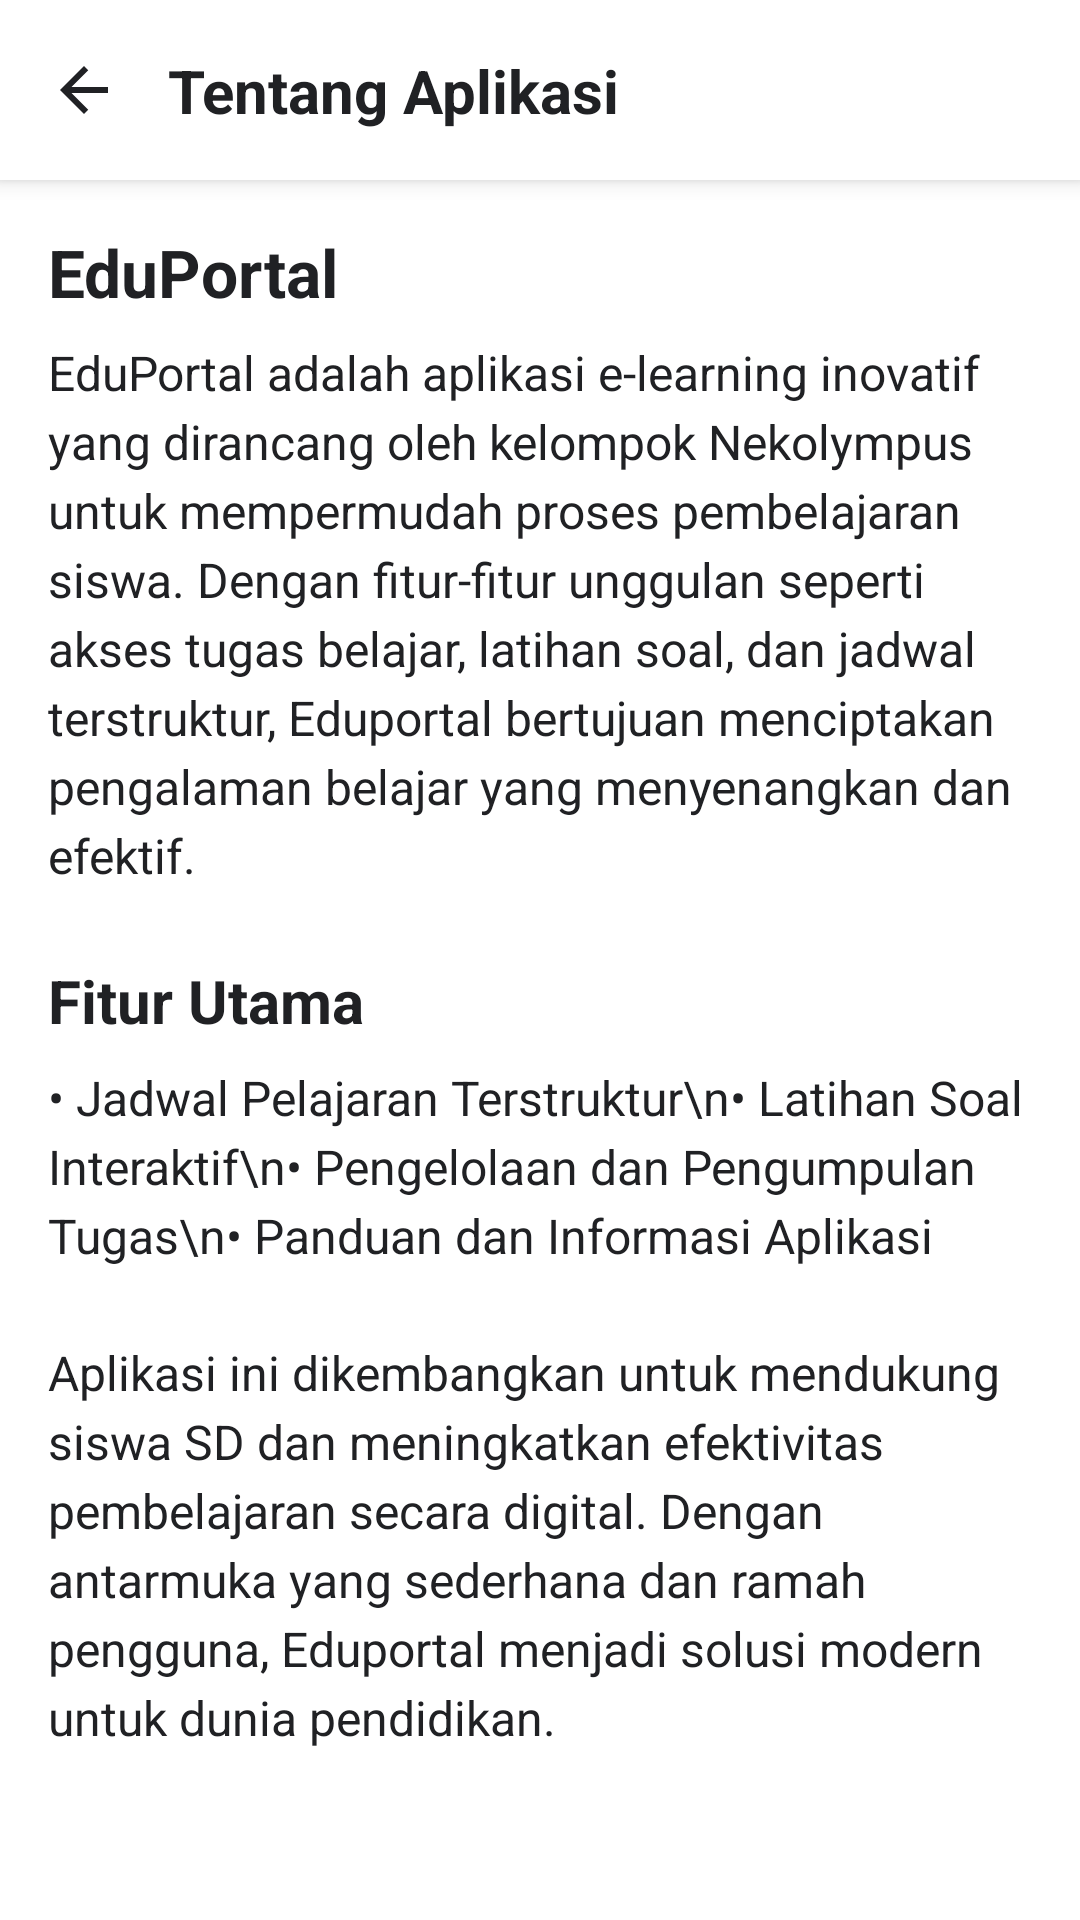

Locate icon controls on the screen. Image size 1080w x 1920h, boxes as rect(x1, y1, x2, y2).
kembali: rect(60, 66, 108, 114)
